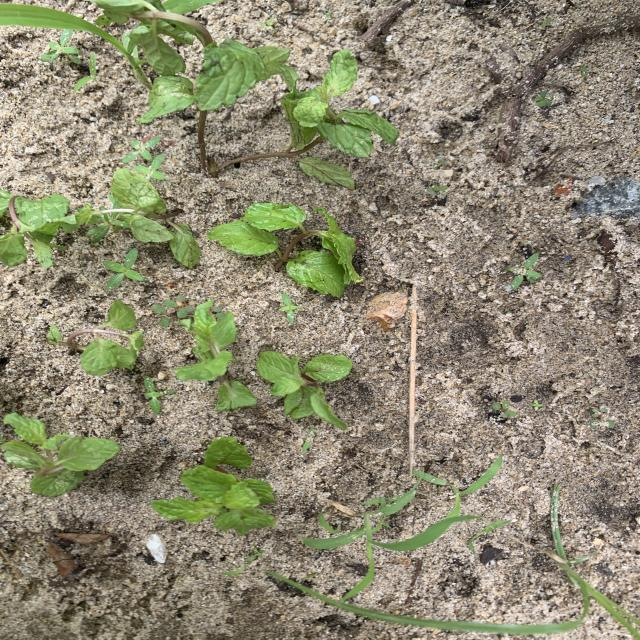crop: (94, 0, 399, 177), (208, 204, 361, 295), (152, 438, 275, 534), (2, 414, 118, 495), (110, 169, 199, 266), (177, 302, 255, 410), (47, 301, 143, 374), (257, 353, 351, 427), (1, 191, 82, 266), (298, 158, 354, 188)
weed: (300, 487, 477, 600), (545, 484, 639, 638), (0, 3, 152, 88), (451, 456, 501, 518), (104, 249, 145, 288), (468, 521, 510, 553), (152, 296, 194, 327), (41, 29, 79, 62), (508, 254, 541, 289), (87, 212, 126, 241), (144, 378, 174, 413), (124, 139, 160, 162), (73, 54, 95, 91), (133, 155, 164, 179), (491, 400, 515, 424), (281, 293, 299, 321), (302, 426, 314, 451), (428, 184, 447, 198), (246, 548, 263, 561), (536, 92, 551, 106), (222, 568, 243, 575), (261, 18, 274, 29), (531, 401, 543, 410), (542, 17, 551, 27)
